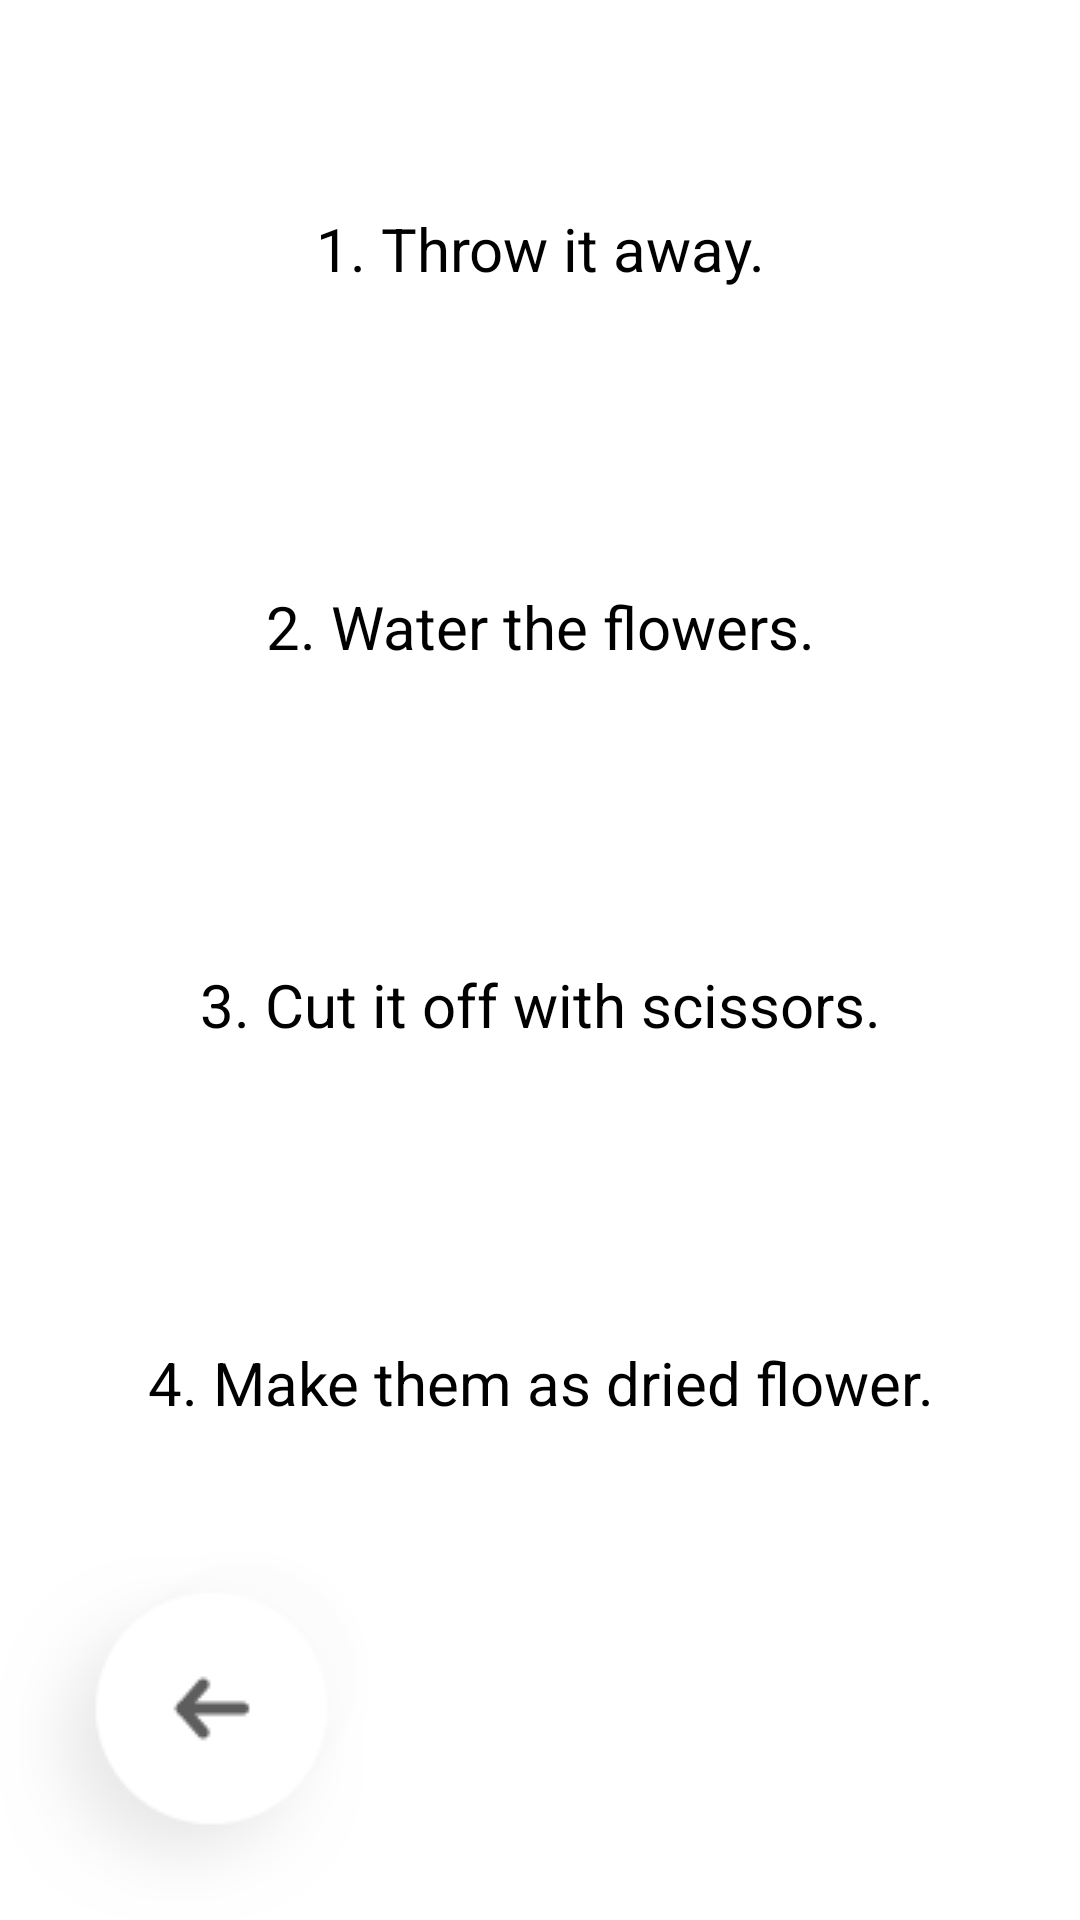

Icon bounding boxes for this 1080px×1920px phone screenshot, format (x1, y1, x2, y2):
back: (173, 1677, 250, 1740)
